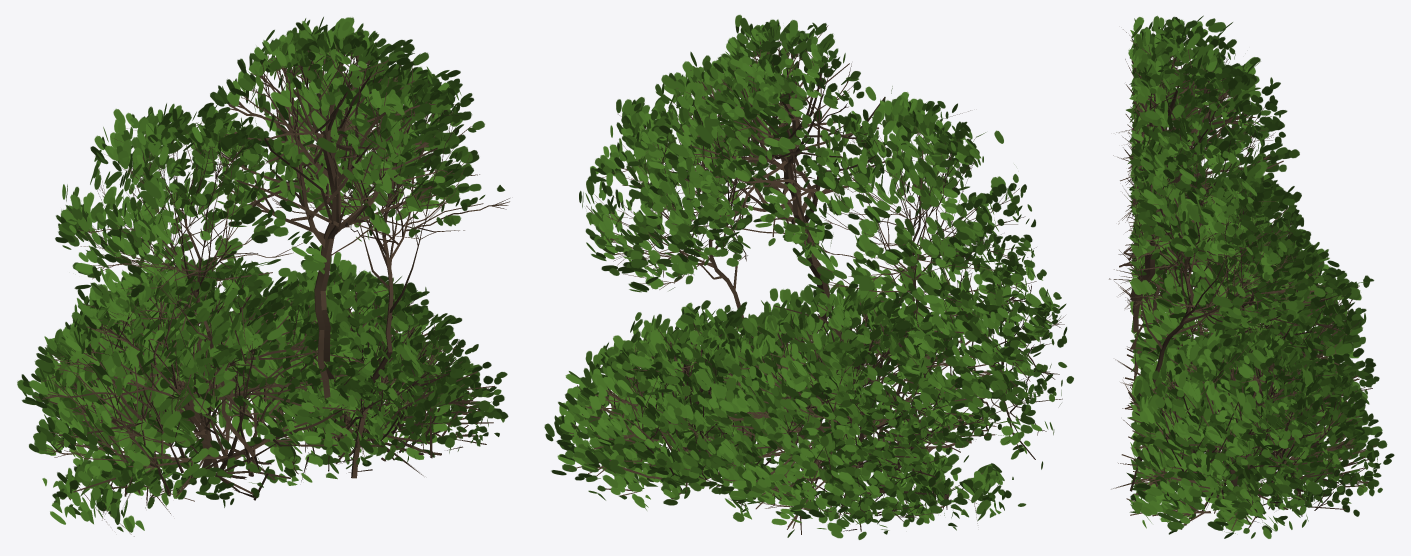
3 renders of one model, left to right at view 1: azimuth 30°, elevation 25°; view 2: azimuth 150°, elevation 25°; view 3: azimuth 270°, elevation 25°, orthographic. The views are drawn at different scales.
Visible parts, largest first — view 1: oak 01.001_trunk_Mat.001_0.328; view 2: oak 01.001_trunk_Mat.001_0.328; view 3: oak 01.001_trunk_Mat.001_0.328.
Boxes of the visible parts, x1=… form: oak 01.001_trunk_Mat.001_0.328: x1=17, y1=17, x2=509, y2=536; oak 01.001_trunk_Mat.001_0.328: x1=544, y1=14, x2=1073, y2=539; oak 01.001_trunk_Mat.001_0.328: x1=1109, y1=15, x2=1394, y2=538.
Size of the model in its own units: 3.93 by 3.53 by 2.13.
2 materials, 1 textured.
